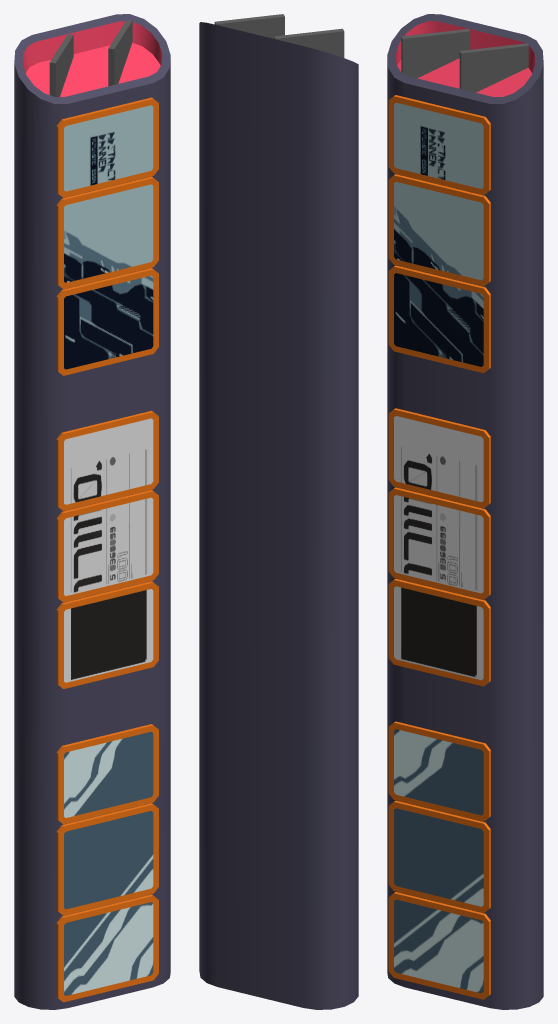
File: CbpBuild K.fbx
The picture shows the model from 3 angles, left to right: view 1: azimuth 30°, elevation 25°; view 2: azimuth 150°, elevation 25°; view 3: azimuth 330°, elevation 25°; orthographic projection.
Parts seen in each view (by area): view 1: CbpBuild K; view 2: CbpBuild K; view 3: CbpBuild K.
Boxes of the visible parts, x1=… form: CbpBuild K: x1=14, y1=14, x2=170, y2=1009; CbpBuild K: x1=199, y1=14, x2=358, y2=1009; CbpBuild K: x1=387, y1=14, x2=543, y2=1009.
Size of the model in its own units: 16.59 by 102 by 7.72.
